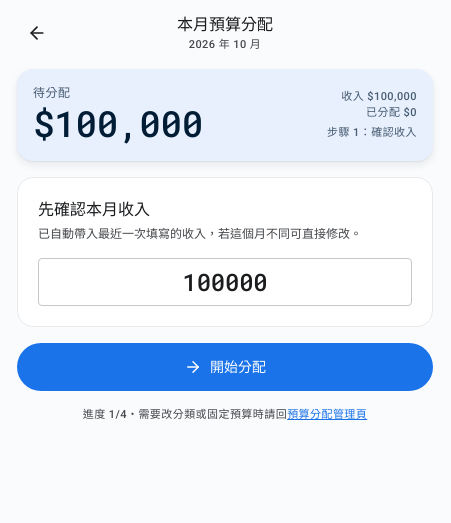
Test: BudgetAllocationWizardPage › walks through groups and fills values with the previous-month shortcut
expect the heading "先確認本月收入" is shown: met, box [38, 200, 150, 219]
Click the button "開始分配". click: click(225, 367)
box: [17, 343, 433, 391]
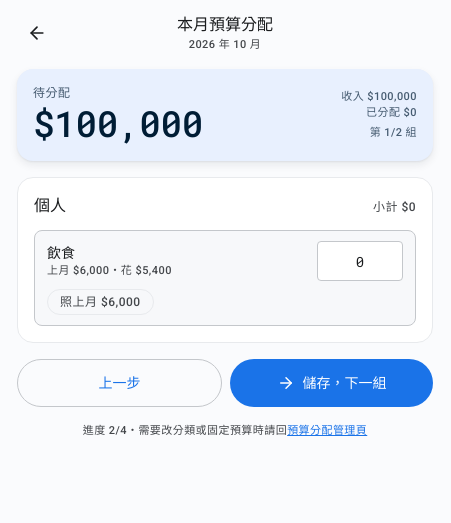
expect the heading "個人" is shown: met, box [34, 194, 66, 218]
expect the text "上月 $6,000・花 $5,400" is shown: met, box [47, 264, 172, 277]
Click the button "照上月 $6,000". click: click(100, 302)
box: [47, 289, 154, 315]
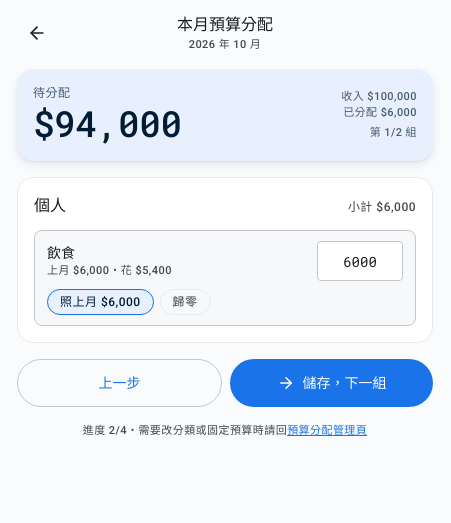
expect the field named "個人 飲食 本月預算" holds "6000": met, box [317, 241, 403, 281]
Click the button "儲存，下一組". click: click(332, 383)
box: [230, 359, 433, 407]
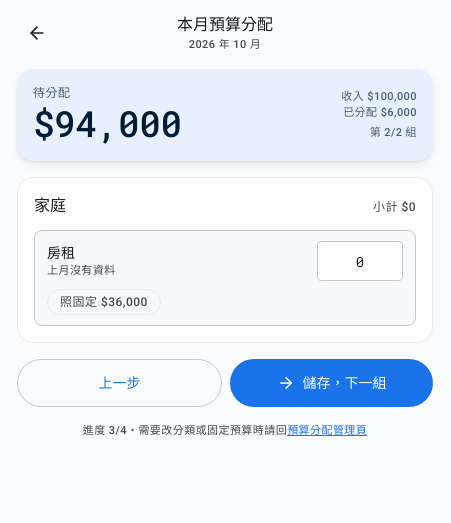
expect the heading "家庭" is shown: met, box [34, 194, 66, 218]
Click the button "照固定 $36,000". click: click(104, 302)
box: [47, 289, 161, 315]
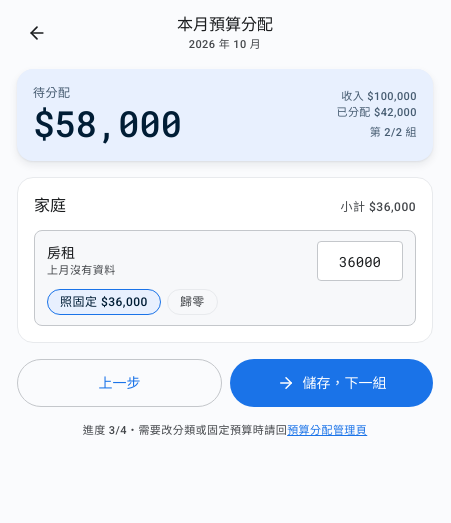
expect the field named "家庭 房租 本月預算" holds "36000": met, box [317, 241, 403, 281]
Click the button "儲存，下一組". click: click(332, 383)
box: [230, 359, 433, 407]
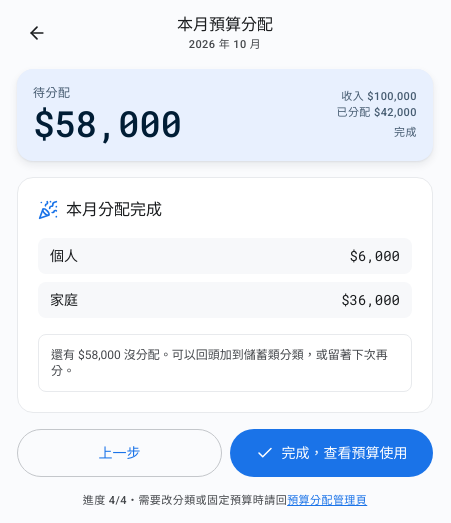
expect the heading "本月分配完成" is shown: met, box [66, 198, 162, 222]
expect the button "完成，查看預算使用" is shown: met, box [230, 429, 433, 477]
